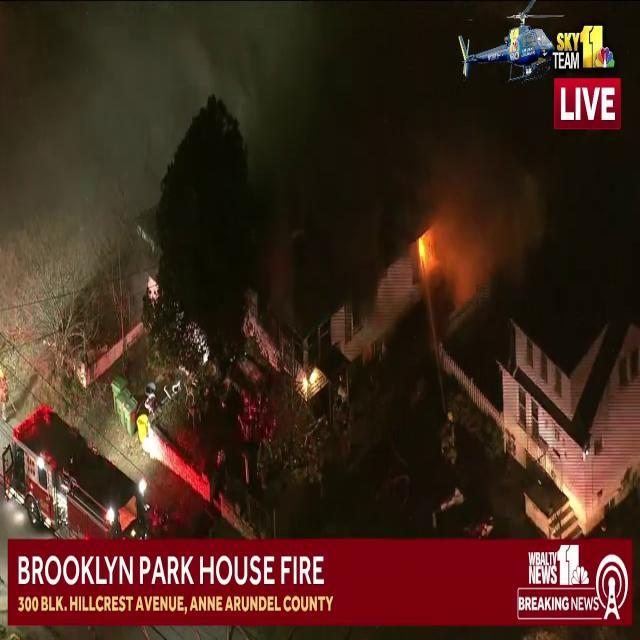Fire: (414, 222, 438, 278)
Smoke: (408, 130, 542, 298)
